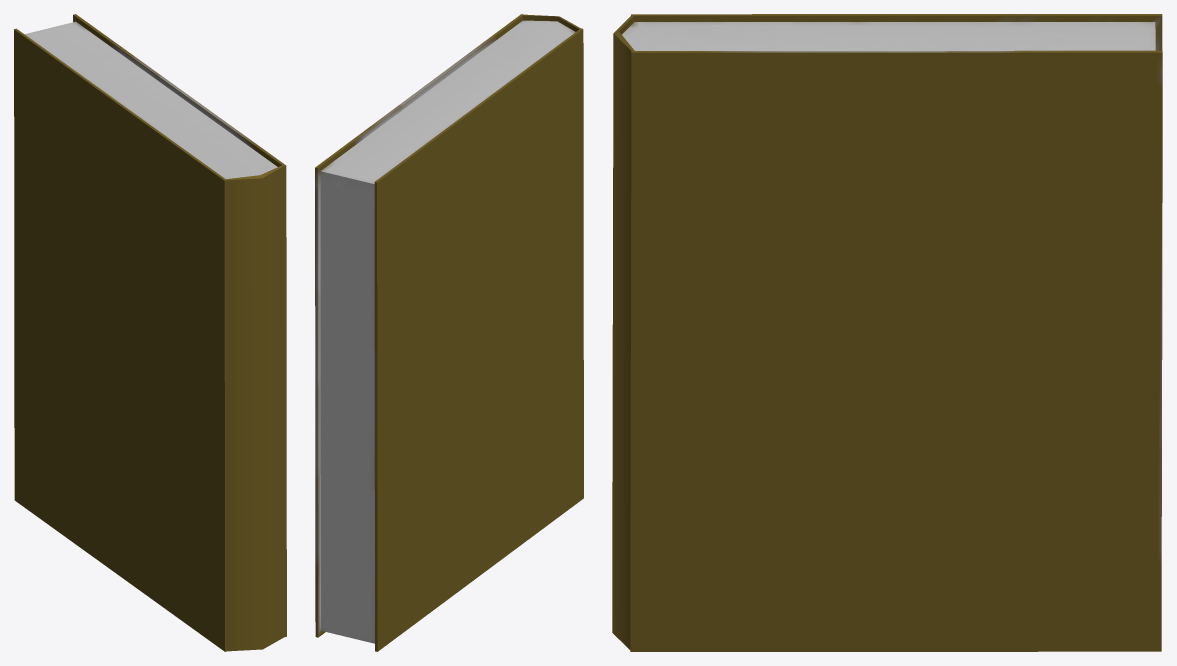
File: BookMustard.fbx
The picture shows the model from 3 angles, left to right: view 1: azimuth 30°, elevation 25°; view 2: azimuth 150°, elevation 25°; view 3: azimuth 270°, elevation 25°; orthographic projection. The views are drawn at different scales.
Visible parts, largest first — view 1: BookMustardOBJ; view 2: BookMustardOBJ; view 3: BookMustardOBJ.
Part boxes in pixels (box(x1,y1,x2,y2)): BookMustardOBJ: box(14, 14, 286, 651); BookMustardOBJ: box(315, 14, 583, 651); BookMustardOBJ: box(612, 14, 1162, 651).
Size of the model in its own units: 5.41 by 38.31 by 31.75.
1 material, 1 textured.
